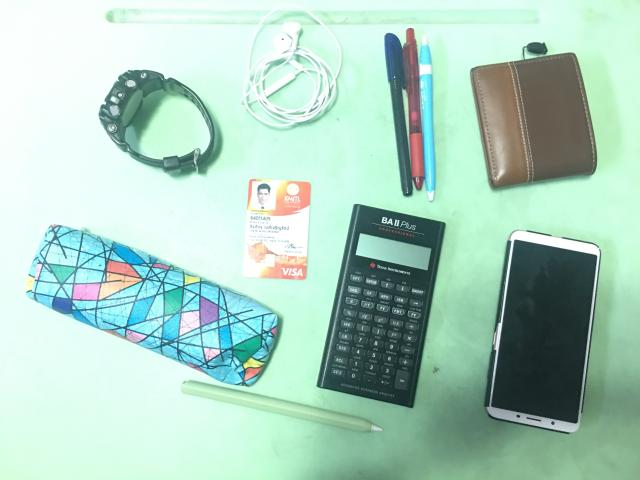Mobile phone: (485, 230, 600, 434)
Pen: (384, 26, 441, 203)
Wallet: (470, 52, 596, 189)
Watch: (99, 70, 215, 169)
wire: (242, 8, 341, 128)
